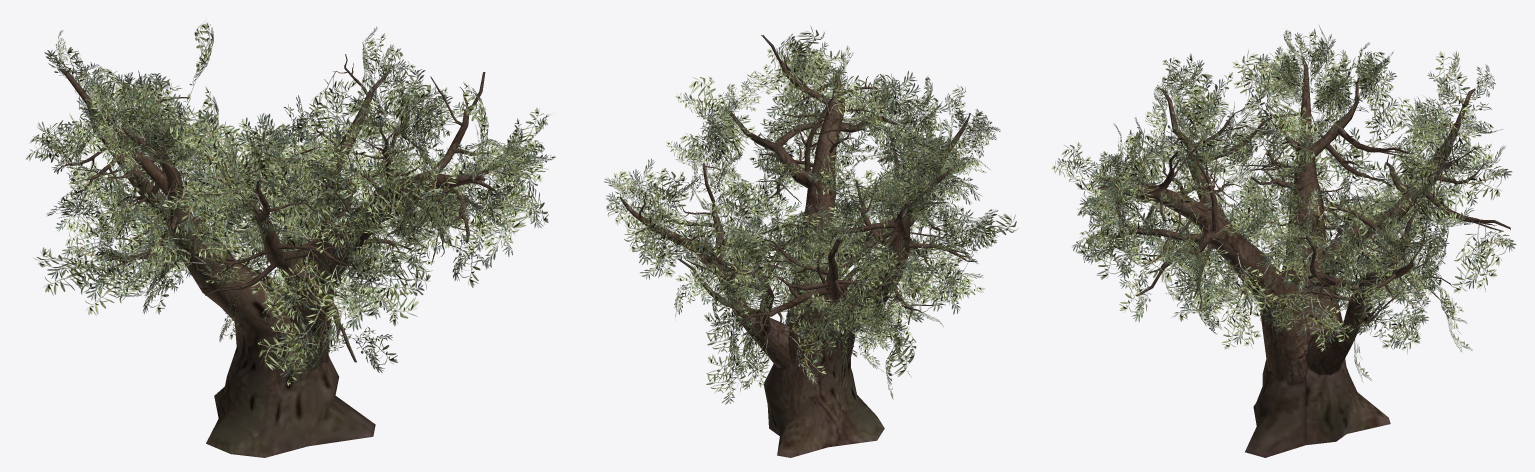
File: olivo.glb
3 views of the same model, side by side, from view 1: azimuth 30°, elevation 25°; view 2: azimuth 150°, elevation 25°; view 3: azimuth 270°, elevation 25° (orthographic). The views are drawn at different scales.
Parts seen in each view (by area): view 1: norm; view 2: norm; view 3: norm.
Part boxes in pixels (bbox=[...]): norm: bbox=[26, 21, 555, 457]; norm: bbox=[604, 26, 1018, 457]; norm: bbox=[1052, 25, 1516, 457].
Bounding box in the file's own units: 6.85 × 6 × 7.36.
2 materials, 2 textured.
